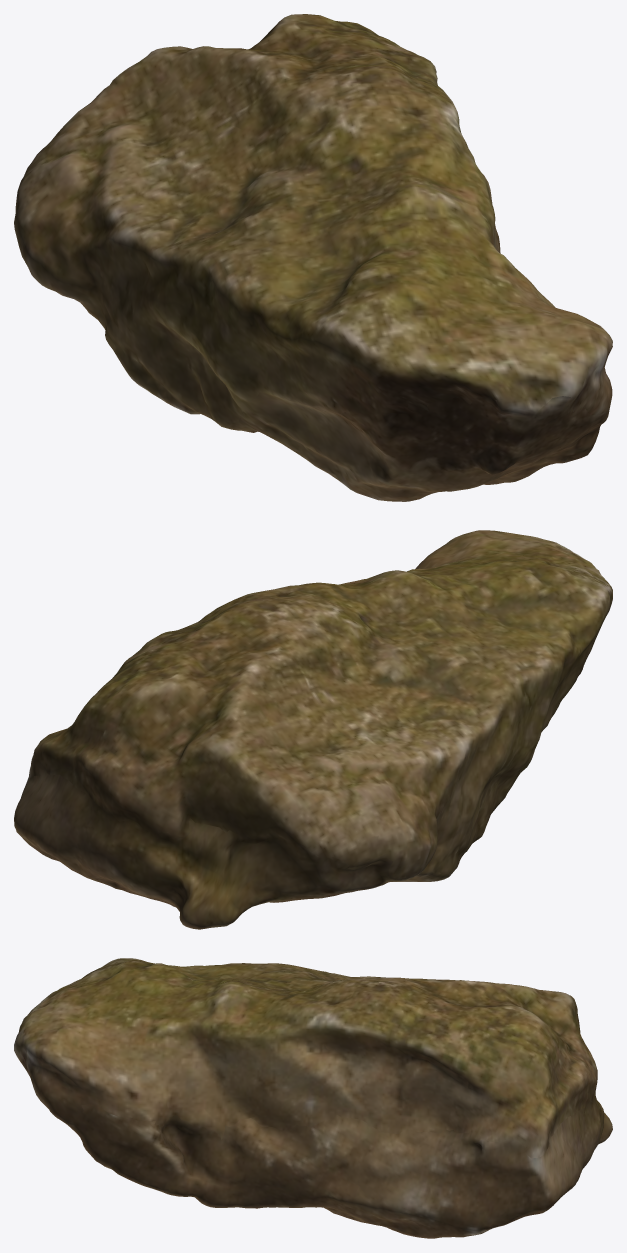
The model's file is rock_05.obj.
3 renders of one model, top to bottom at view 1: azimuth 30°, elevation 25°; view 2: azimuth 150°, elevation 25°; view 3: azimuth 270°, elevation 25°, orthographic. The views are drawn at different scales.
Parts seen in each view (by area): view 1: rock_moss_set_01_rock05; view 2: rock_moss_set_01_rock05; view 3: rock_moss_set_01_rock05.
Part boxes in pixels (left/top/right/bottom): rock_moss_set_01_rock05: left=14, top=14, right=612, bottom=501; rock_moss_set_01_rock05: left=14, top=530, right=612, bottom=929; rock_moss_set_01_rock05: left=14, top=958, right=612, bottom=1238.
Bounding box in the file's own units: 1.82 × 1.21 × 3.
1 material, 1 textured.
